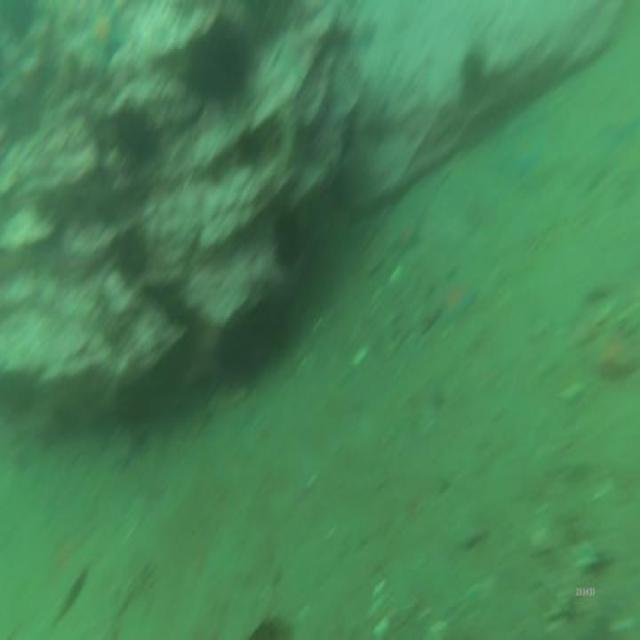echinus: (186, 20, 252, 117), (110, 100, 164, 170), (266, 199, 309, 278), (109, 221, 152, 286), (459, 43, 489, 109)
starfish: (590, 321, 640, 393), (81, 6, 128, 73), (496, 126, 541, 182), (441, 273, 477, 327), (389, 220, 423, 262)
